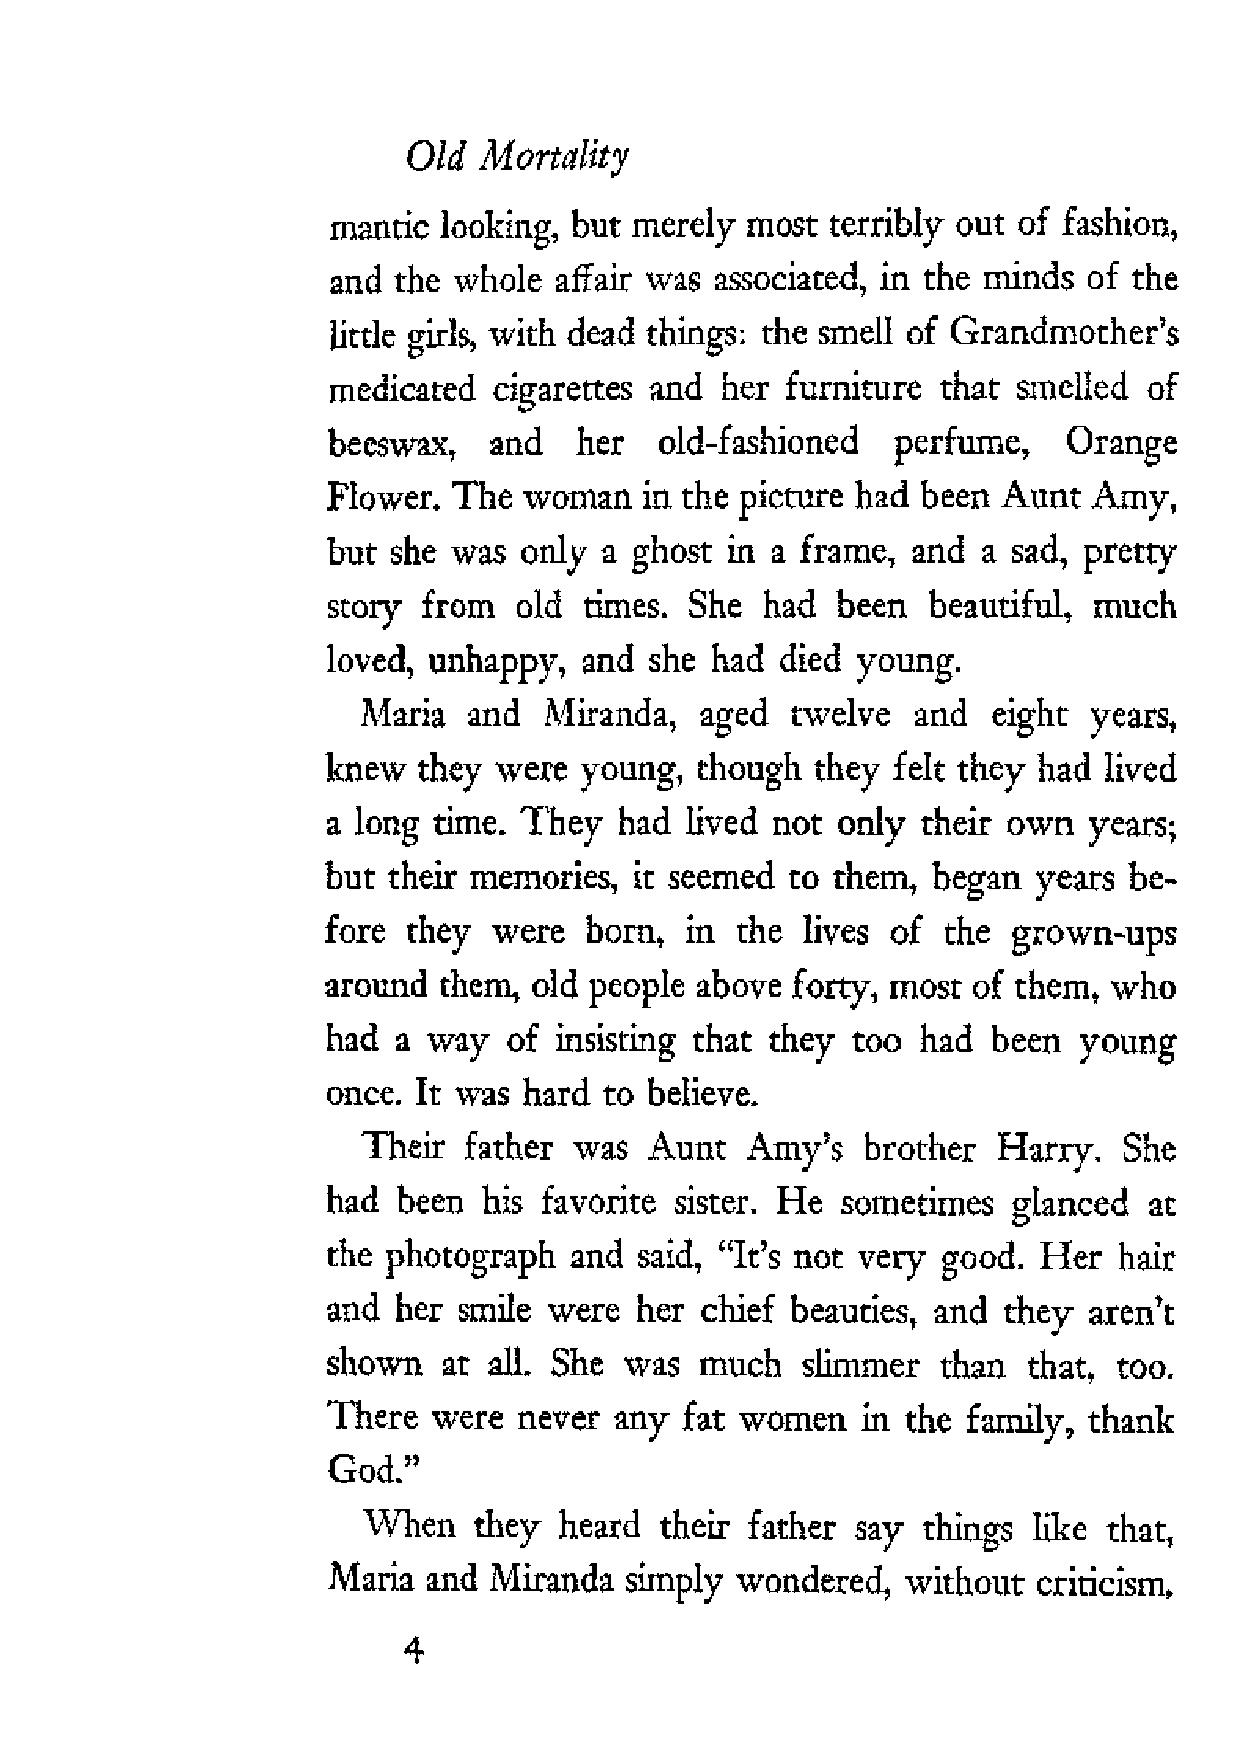chapter: (404, 129, 632, 178)
content: (323, 200, 1180, 1605)
content_pagenumber: (397, 1633, 427, 1665)
